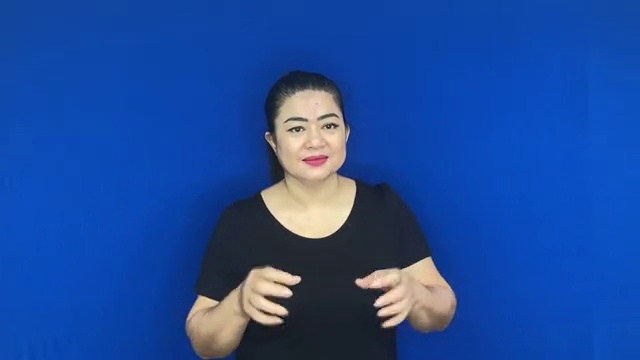egg: (231, 252, 415, 334)
